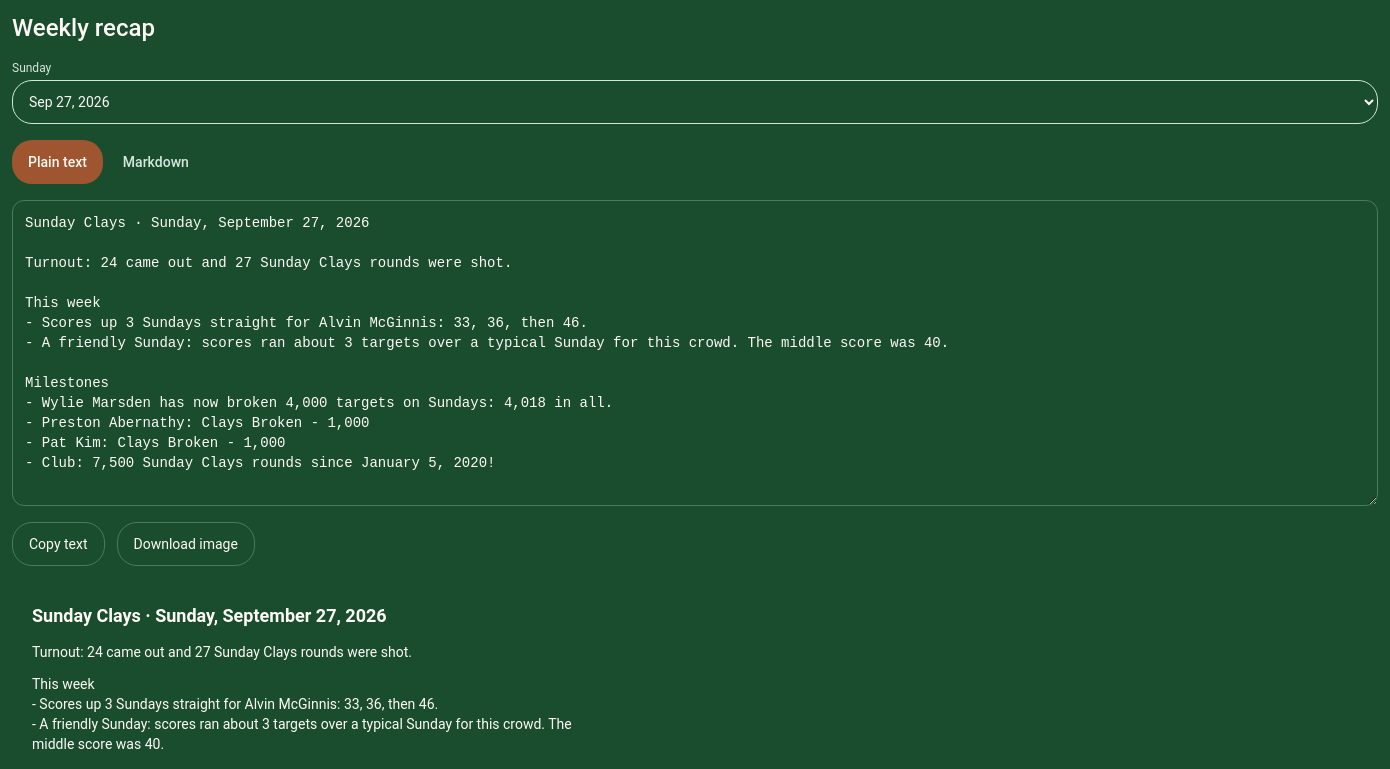
Test case: RecapPage › switches to Markdown and copies it
Click the tab "Markdown": point(156, 162) x1=107 y1=140 x2=205 y2=184
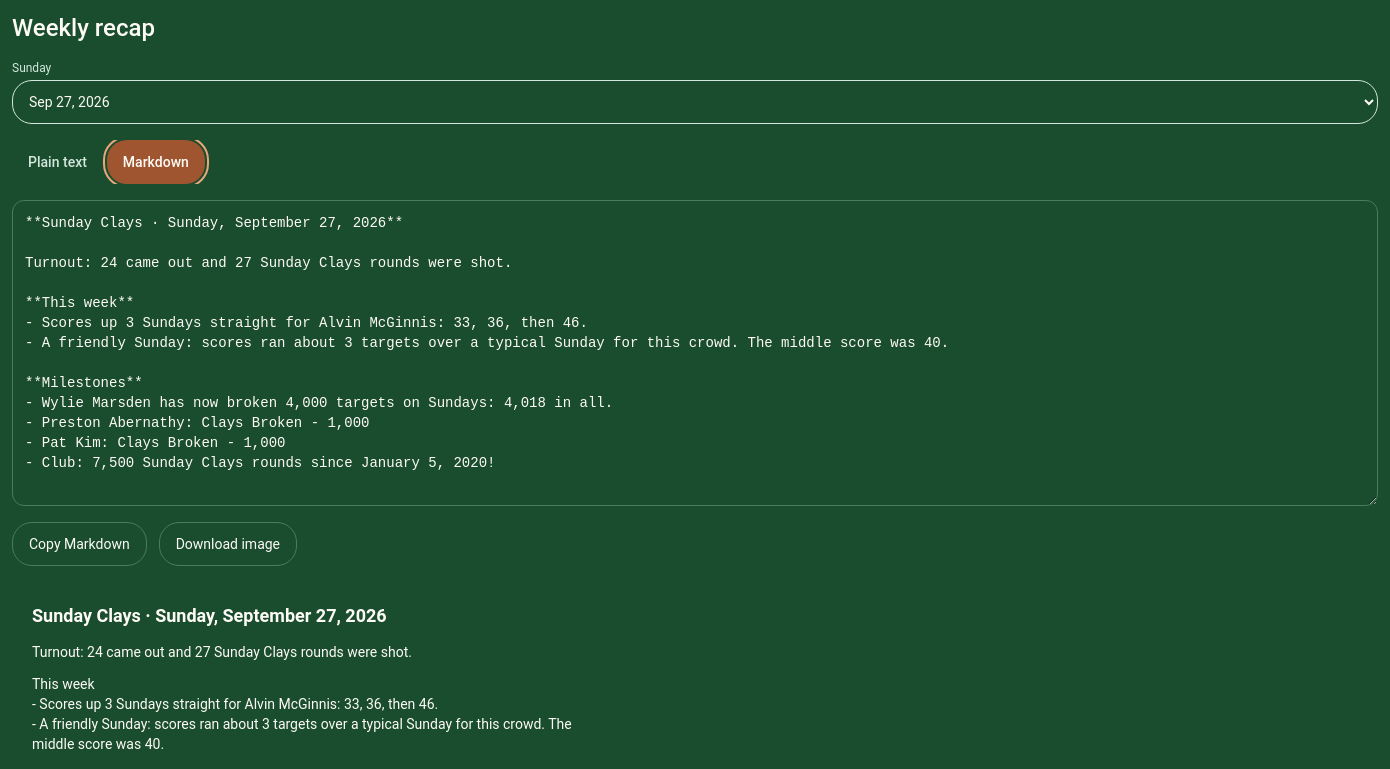
Click the button "Copy Markdown": point(79, 544) x1=12 y1=522 x2=147 y2=566
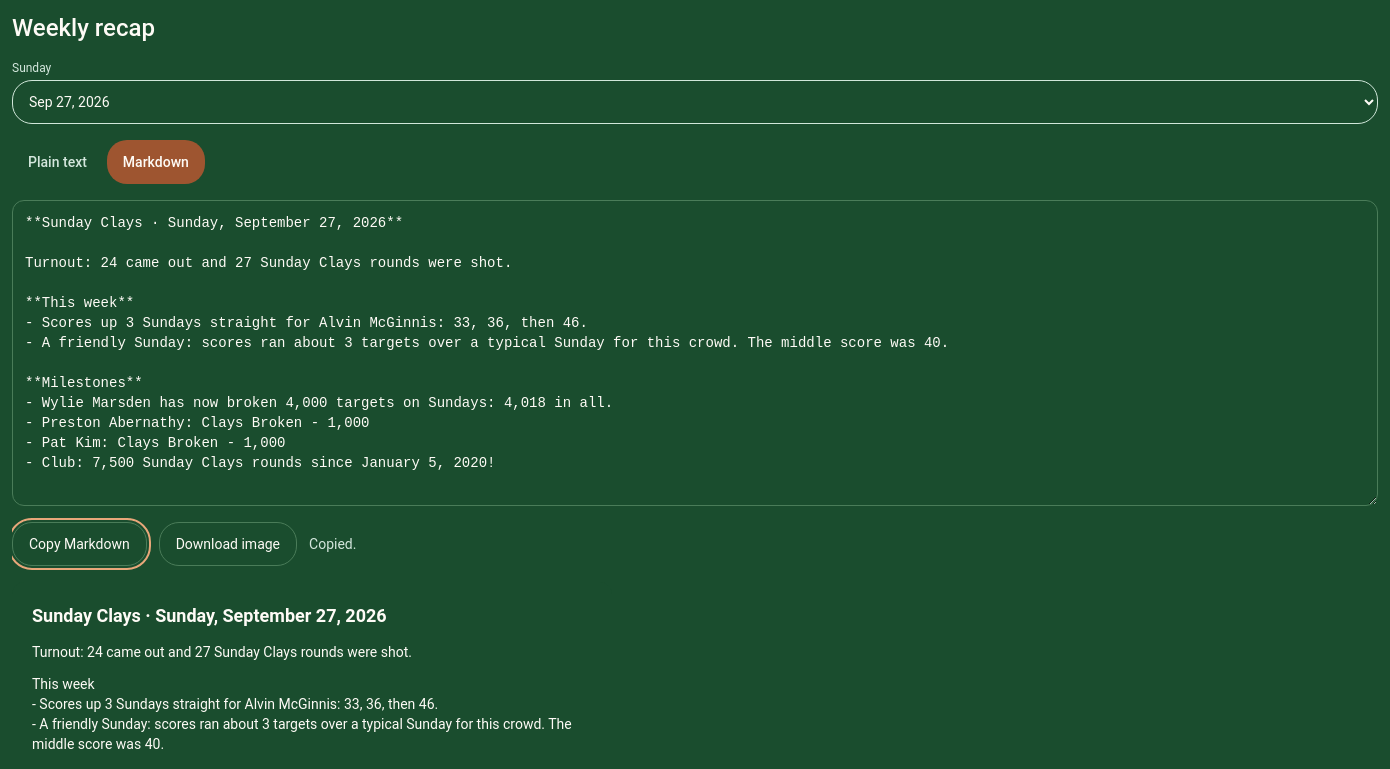
Check: the text "Copied." is shown, box x1=309 y1=534 x2=356 y2=554
